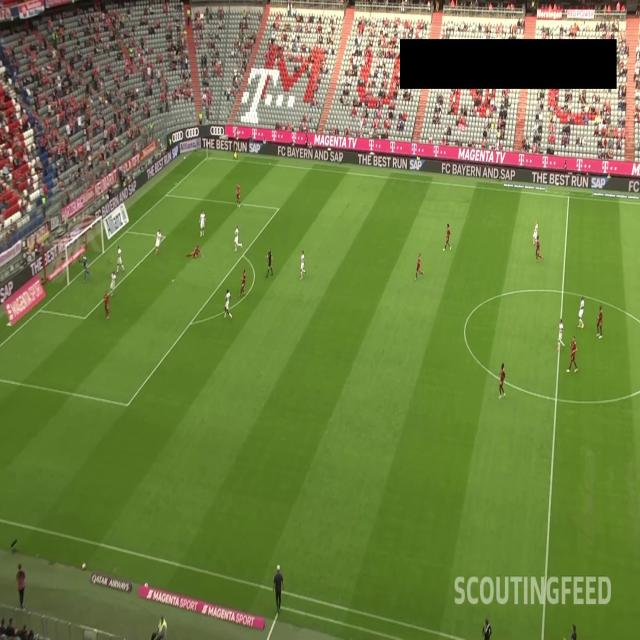player: (565, 332, 580, 374), (594, 298, 604, 339), (101, 288, 113, 322), (78, 255, 92, 283), (185, 243, 205, 262), (576, 294, 586, 331), (556, 315, 566, 351), (232, 223, 243, 254), (534, 237, 546, 265), (115, 244, 125, 277), (443, 221, 453, 254), (154, 225, 164, 254), (414, 251, 424, 280), (499, 360, 506, 400), (224, 287, 232, 320), (199, 208, 207, 240), (235, 178, 243, 209), (532, 217, 540, 246), (300, 249, 307, 282), (110, 268, 117, 299), (240, 264, 247, 295)
referee: (265, 245, 275, 278), (232, 130, 238, 162)
